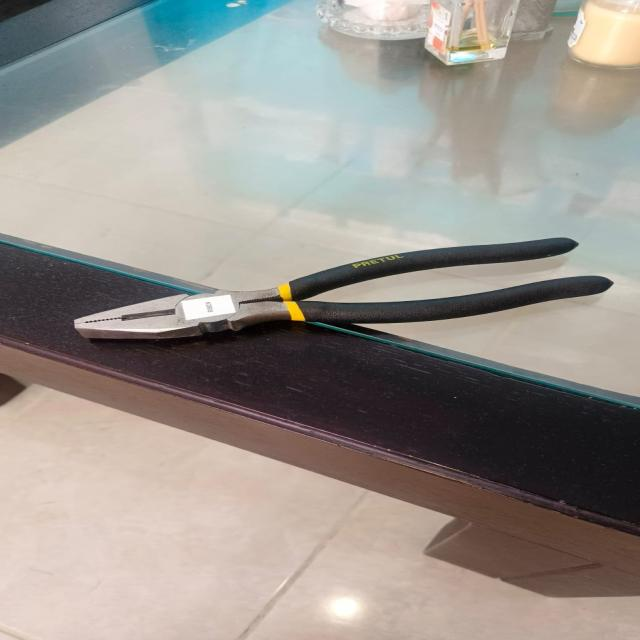alicate: (40, 236, 628, 350)
